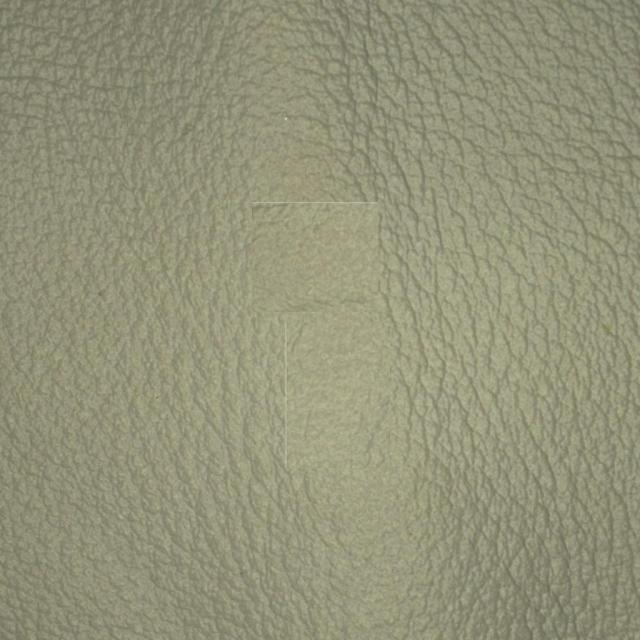Healed Injury: (223, 156, 462, 471)
